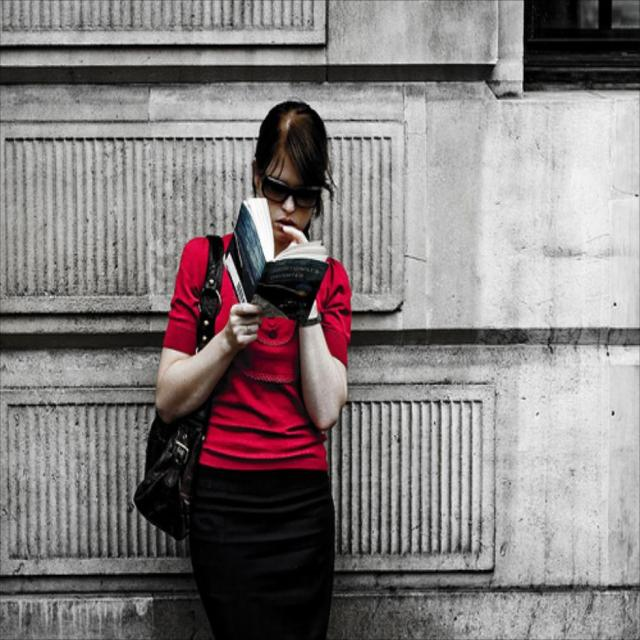Glasses: (260, 168, 320, 222)
